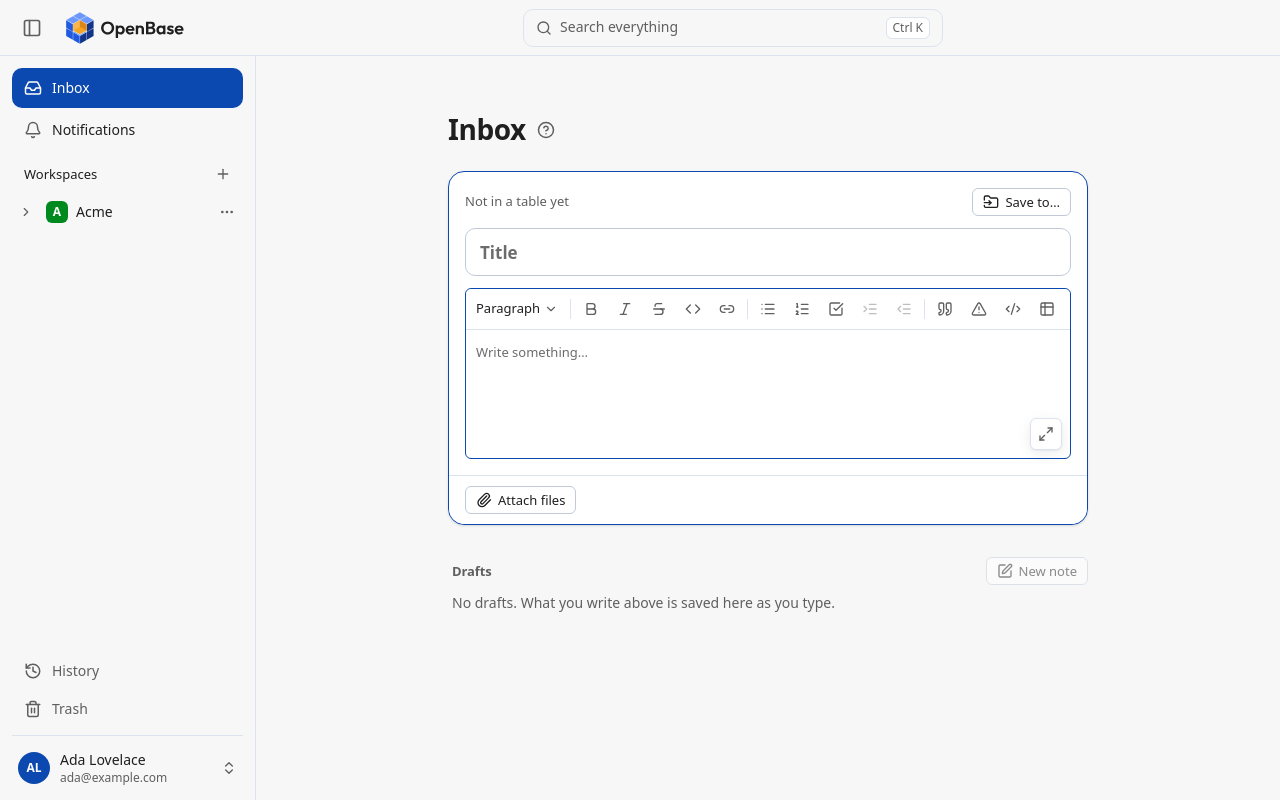
drafts › keeps a title on its own as a draft, and lists the draft by it
Type "Cabin for the offsite" into the field labelled "Title". click: (768, 252)
box: top-left (465, 228), bottom-right (1071, 276)
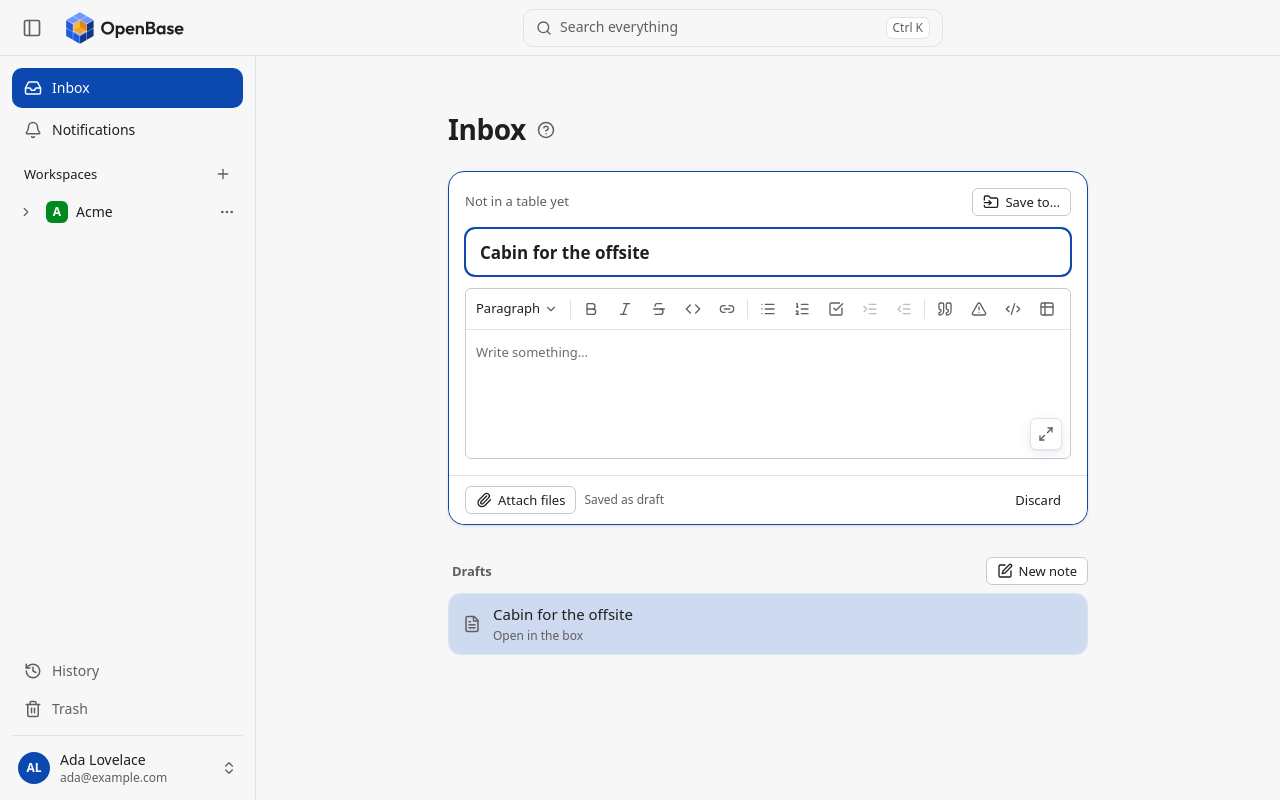
Now the button "Cabin for the offsite Open in the box" is shown, box top-left (449, 594), bottom-right (1087, 654)
